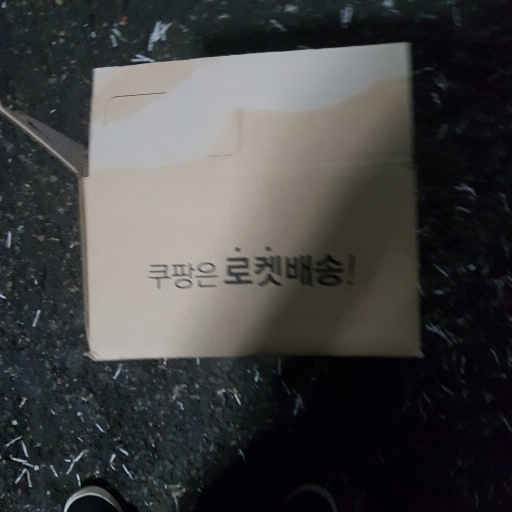Paper_0: (6, 38, 435, 364)
